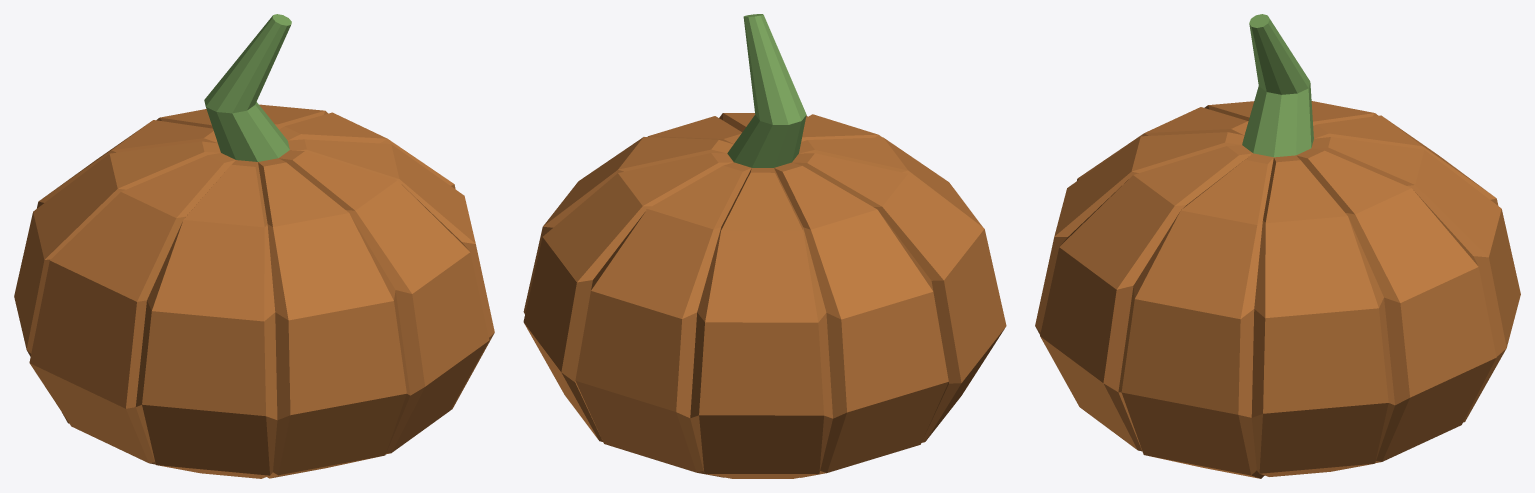
The model's file is Pumpkin_Crop.glb.
The picture shows the model from 3 angles, left to right: view 1: azimuth 30°, elevation 25°; view 2: azimuth 150°, elevation 25°; view 3: azimuth 270°, elevation 25°; orthographic projection. The views are drawn at different scales.
Parts seen in each view (by area): view 1: Pumpkin_Crop; view 2: Pumpkin_Crop; view 3: Pumpkin_Crop.
Boxes of the visible parts, x1,y1,x2,y2 form: Pumpkin_Crop: [14, 14, 494, 478]; Pumpkin_Crop: [523, 14, 1006, 478]; Pumpkin_Crop: [1035, 14, 1520, 478].
Bounding box in the file's own units: 0.5875 × 0.5544 × 0.5781.
